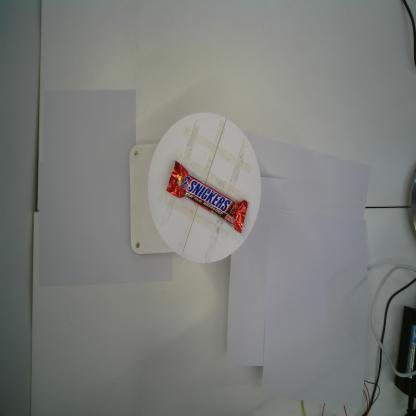Chocolate: (164, 159, 250, 236)
